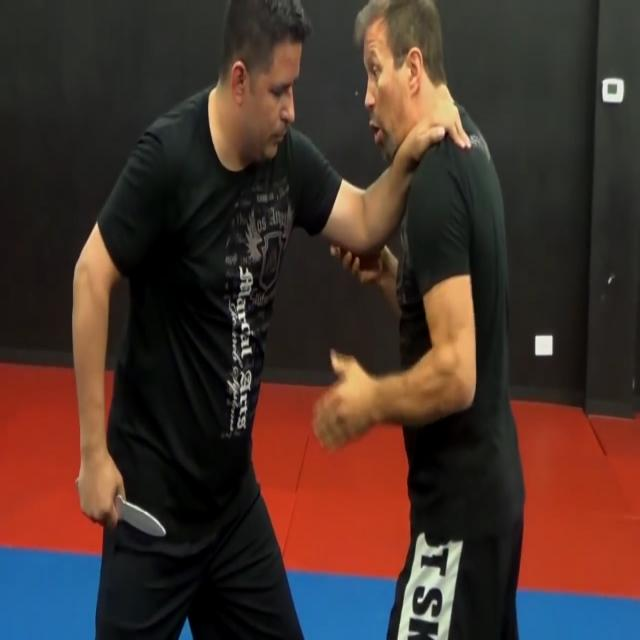knife: (115, 491, 169, 546)
